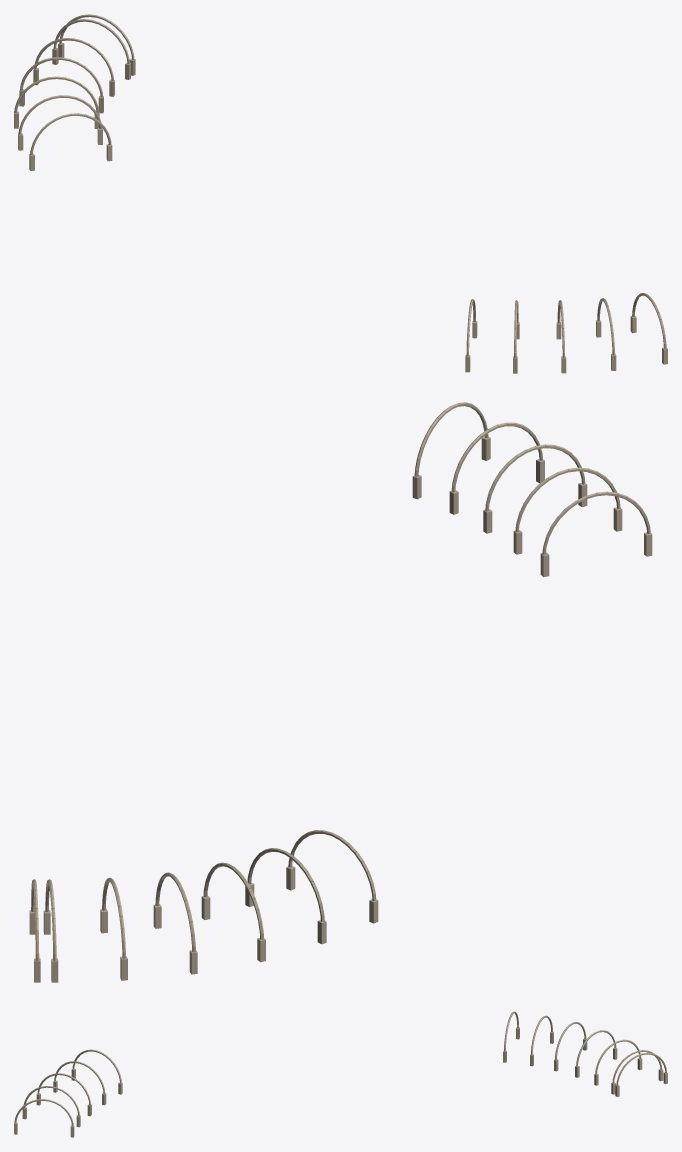
The model's file is Galleries_SandstoneTrim_1.fbx.
3 renders of one model, top to bottom at view 1: azimuth 30°, elevation 25°; view 2: azimuth 150°, elevation 25°; view 3: azimuth 270°, elevation 25°, orthographic. The views are drawn at different scales.
Parts seen in each view (by area): view 1: Galleries_SandstoneTrim_1; view 2: Galleries_SandstoneTrim_1; view 3: Galleries_SandstoneTrim_1.
Boxes of the visible parts, <box> form: Galleries_SandstoneTrim_1: <box>14,14,667,373</box>; Galleries_SandstoneTrim_1: <box>29,402,652,982</box>; Galleries_SandstoneTrim_1: <box>14,1011,667,1137</box>.
Size of the model in its own units: 35646 by 6308 by 98732.
